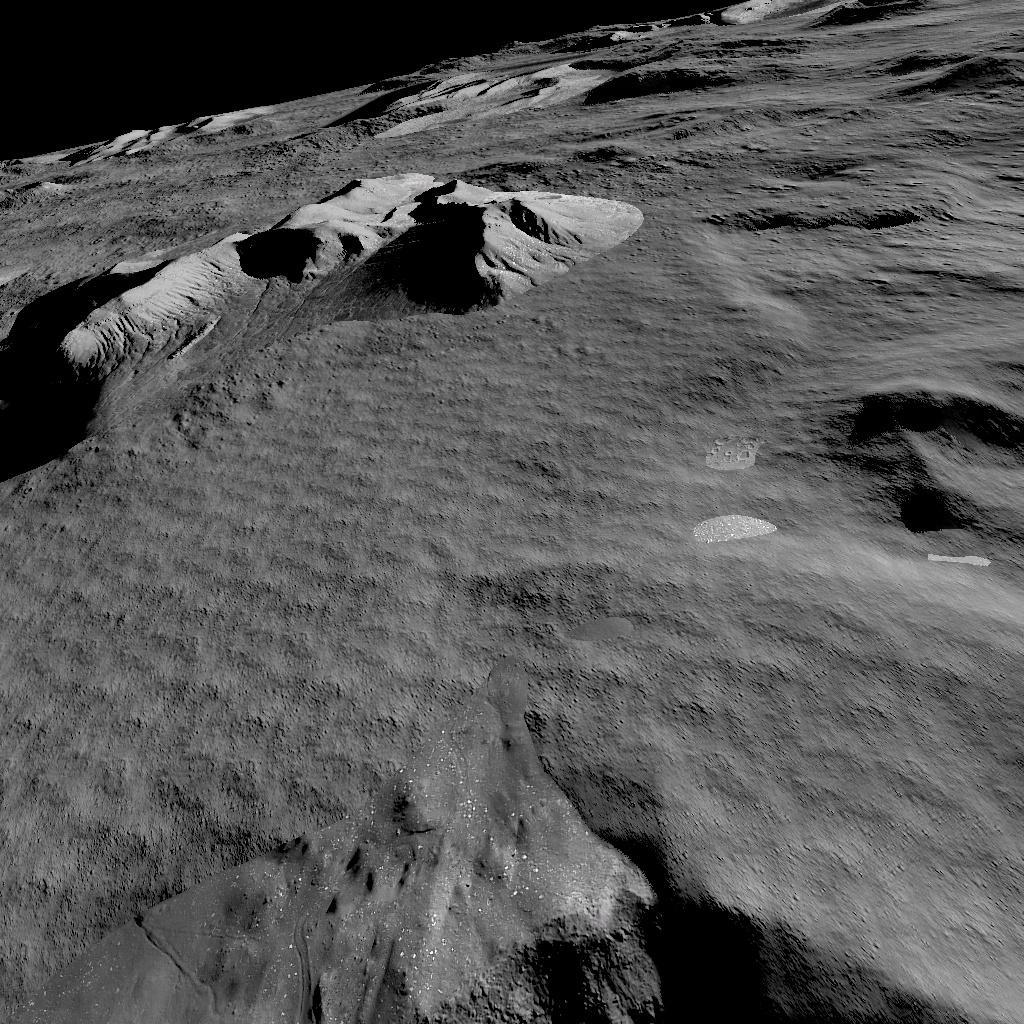Boulders: (4, 172, 640, 448), (332, 0, 1024, 141), (74, 94, 290, 160)
Crater: (0, 733, 1024, 1024), (803, 376, 1024, 560), (706, 188, 938, 245)
Plan surface: (0, 482, 764, 688)
